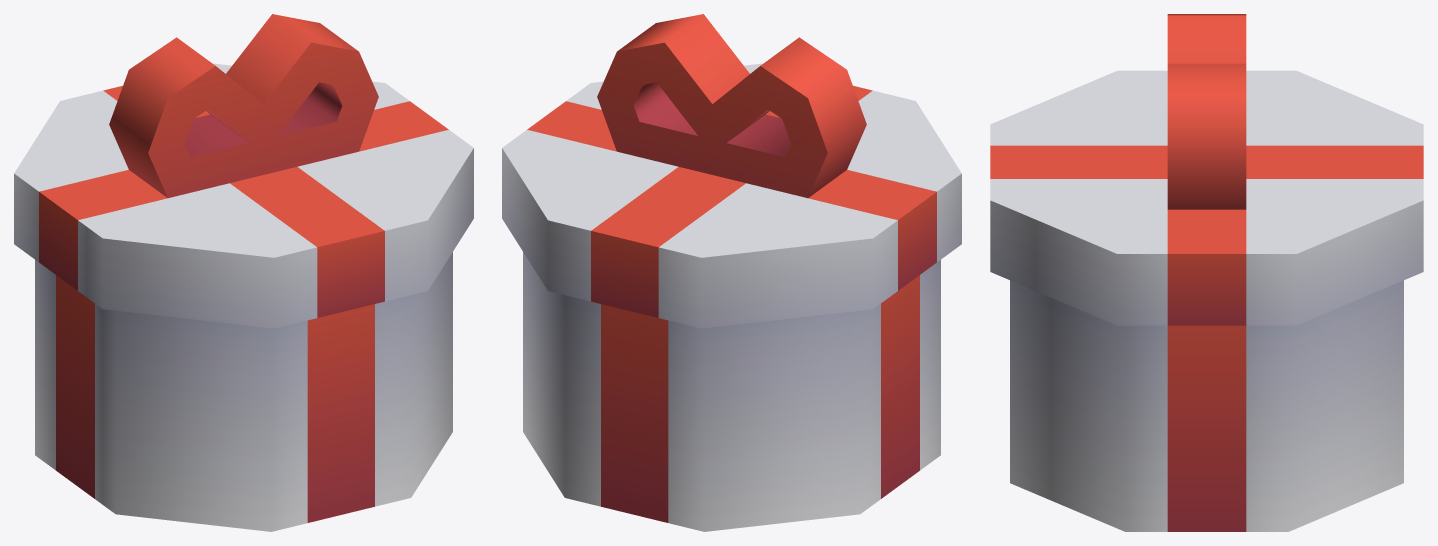
File: kenney-holiday-present-a-round.glb
The picture shows the model from 3 angles, left to right: view 1: azimuth 30°, elevation 25°; view 2: azimuth 150°, elevation 25°; view 3: azimuth 270°, elevation 25°; orthographic projection.
Visible parts, largest first — view 1: present-a-round; view 2: present-a-round; view 3: present-a-round.
Boxes of the visible parts, x1=… form: present-a-round: x1=14, y1=14, x2=473, y2=531; present-a-round: x1=502, y1=14, x2=961, y2=531; present-a-round: x1=990, y1=14, x2=1423, y2=531.
Size of the model in its own units: 0.5489 by 0.5707 by 0.5489.
1 material, 1 textured.
